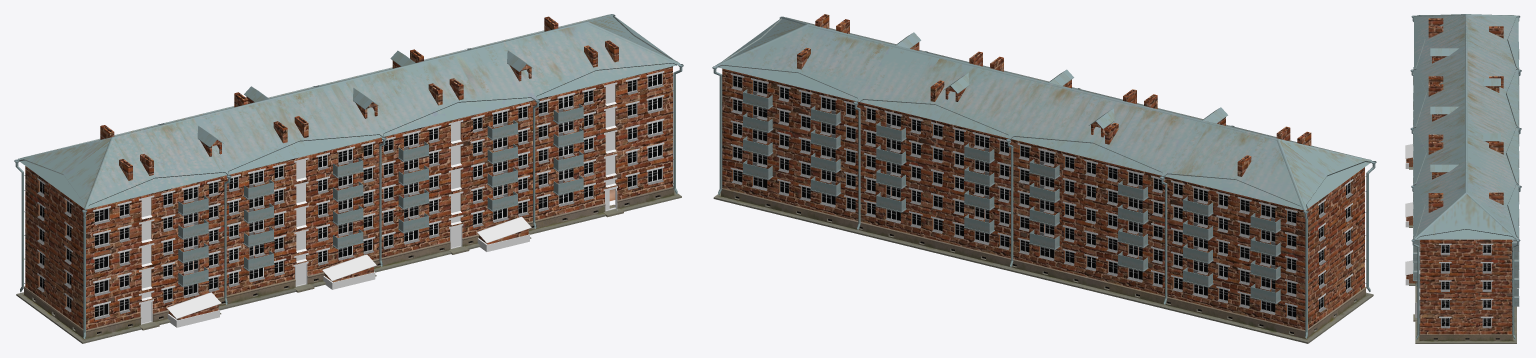
File: Dorn.fbx
3 views of the same model, side by side, from view 1: azimuth 30°, elevation 25°; view 2: azimuth 150°, elevation 25°; view 3: azimuth 270°, elevation 25° (orthographic). The views are drawn at different scales.
Parts seen in each view (by area): view 1: Balkon; view 2: Balkon; view 3: Balkon.
Boxes of the visible parts, <box> form: Balkon: <box>14,14,683,343</box>; Balkon: <box>712,14,1376,343</box>; Balkon: <box>1405,14,1521,343</box>.
Bounding box in the file's own units: 20339 × 5429 × 4432.
10 materials, 5 textured.
